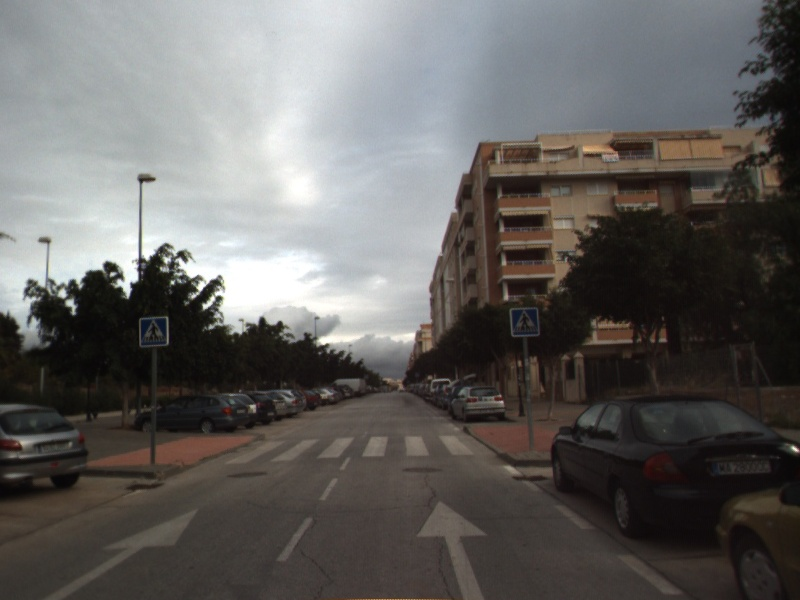STRAIGHT: (40, 506, 202, 600), (414, 498, 490, 600)
